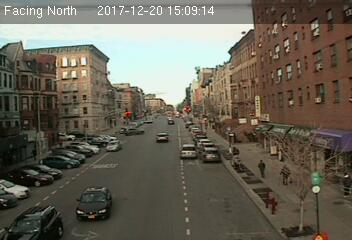car: (76, 186, 112, 220), (179, 143, 197, 160), (200, 147, 220, 160), (105, 139, 122, 151), (155, 131, 169, 143)
pedestrian: (256, 158, 266, 182)
